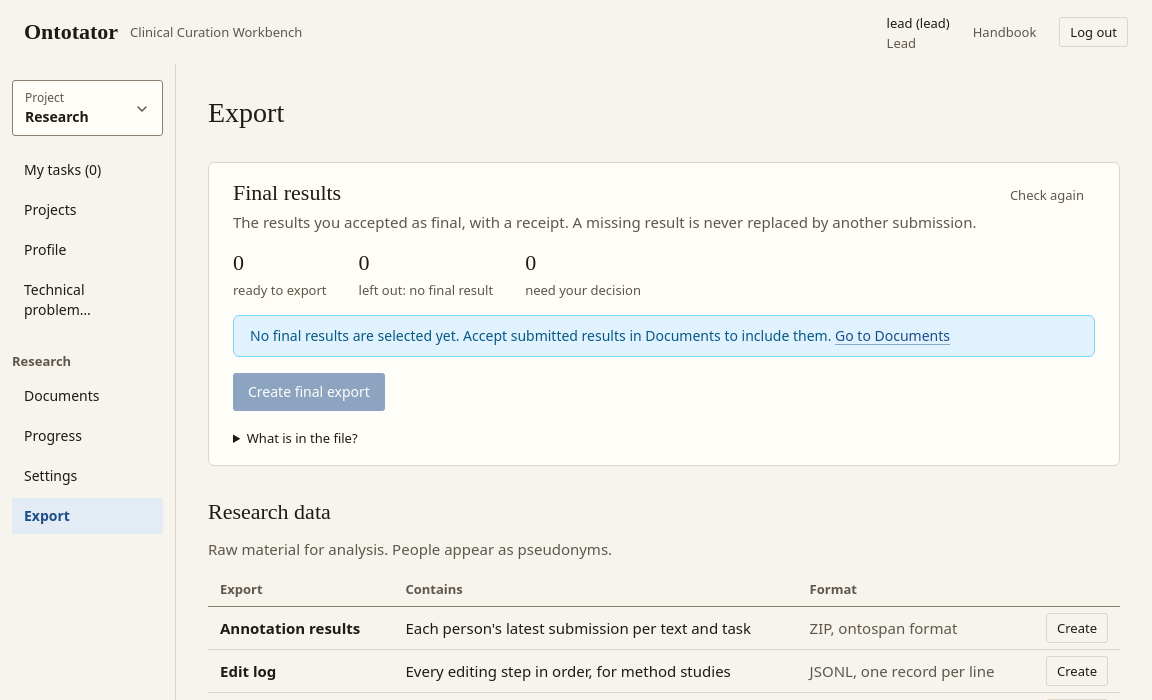
uses the real Export create request and displays its server denial
Click the button "Create" in the row of "Annotation results" at (1077, 628), box [1046, 613, 1108, 643]
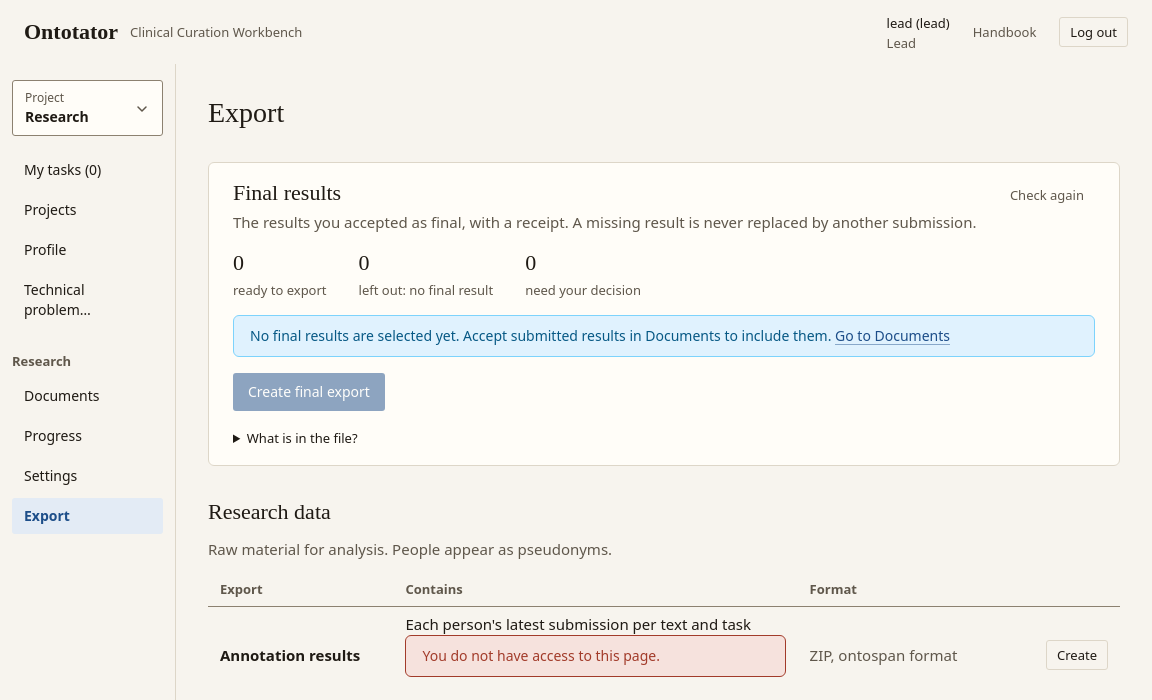
Now the text "You do not have access to this page." is shown, box [422, 646, 660, 666]
